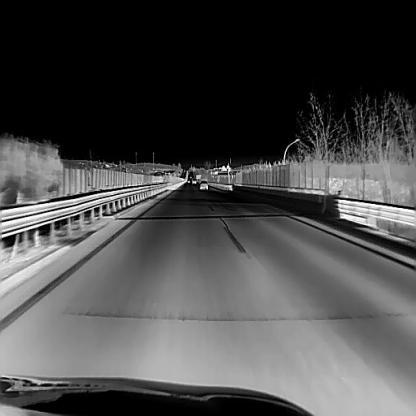car: (198, 179, 208, 189), (191, 175, 196, 183)
